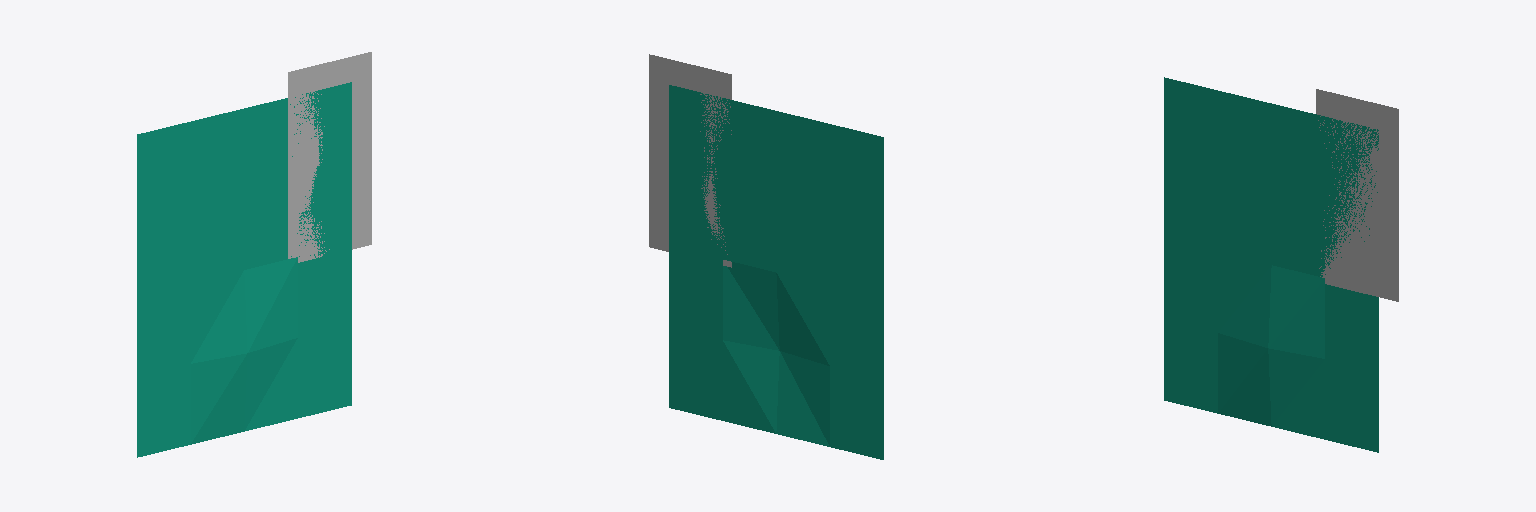
The model's file is mirror.obj.
3 renders of one model, left to right at view 1: azimuth 30°, elevation 25°; view 2: azimuth 150°, elevation 25°; view 3: azimuth 330°, elevation 25°, orthographic.
Visible parts, largest first — view 1: Plane001, Plane002; view 2: Plane001, Plane002; view 3: Plane001, Plane002.
Part boxes in pixels (bbox=[...]): Plane001: bbox=[137, 82, 351, 457]; Plane002: bbox=[288, 52, 371, 262]; Plane001: bbox=[669, 85, 883, 459]; Plane002: bbox=[649, 54, 731, 267]; Plane001: bbox=[1164, 77, 1378, 452]; Plane002: bbox=[1316, 89, 1398, 301].
Size of the model in its own units: 40.65 by 57.67 by 1.